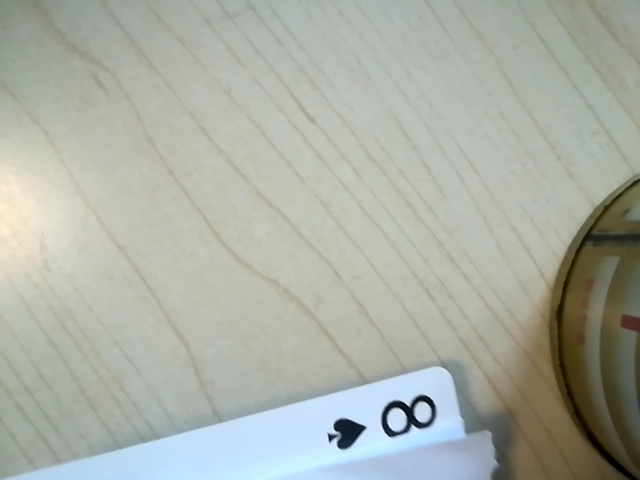ht 8: (326, 383, 466, 458)
